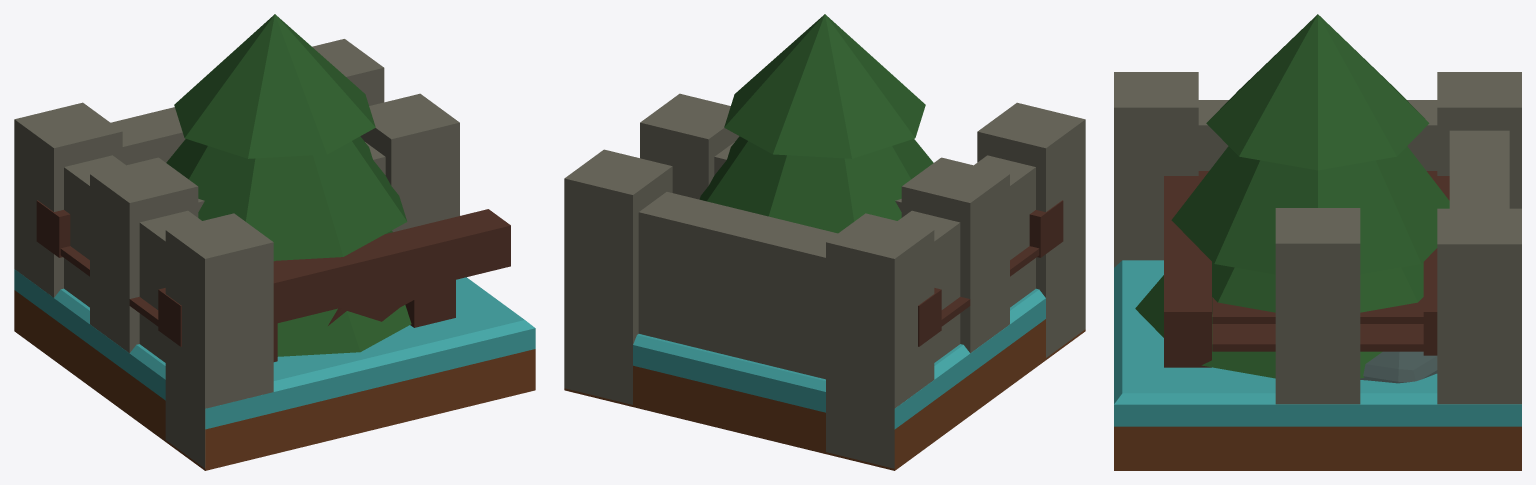
The model's file is Placeholder_Forest_Assets.fbx.
3 views of the same model, side by side, from view 1: azimuth 30°, elevation 25°; view 2: azimuth 150°, elevation 25°; view 3: azimuth 270°, elevation 25° (orthographic). The views are drawn at different scales.
Parts seen in each view (by area): view 1: SM_PH_Wall_Corner, SM_PH_Tree, SM_Tile_River_Base, SM_PH_Bridge_Middle, SM_PH_Wall, SM_PH_Wall_Half, SM_PH_Bridge_End; view 2: SM_PH_Wall_Corner, SM_PH_Tree, SM_Tile_River_Base, SM_PH_Wall_Half, SM_PH_Wall, SM_PH_Bridge_Middle; view 3: SM_PH_Tree, SM_PH_Wall_Corner, SM_Tile_River_Base, SM_PH_Wall_Half, SM_PH_Bridge_Middle, SM_PH_Wall, SM_PH_Rock.
Boxes of the visible parts, x1,y1,x2,y2 form: SM_PH_Wall_Corner: (14, 39, 384, 468); SM_PH_Tree: (166, 14, 411, 356); SM_Tile_River_Base: (14, 269, 535, 470); SM_PH_Bridge_Middle: (36, 200, 510, 361); SM_PH_Wall: (90, 123, 459, 353); SM_PH_Wall_Half: (90, 93, 459, 351); SM_PH_Bridge_End: (328, 290, 414, 325); SM_PH_Wall_Corner: (564, 102, 1085, 468); SM_PH_Tree: (699, 14, 933, 233); SM_Tile_River_Base: (564, 288, 1085, 470); SM_PH_Wall_Half: (640, 93, 1009, 352); SM_PH_Wall: (640, 123, 1009, 352); SM_PH_Bridge_Middle: (918, 200, 1063, 346); SM_PH_Tree: (1135, 14, 1449, 378); SM_PH_Wall_Corner: (1114, 72, 1521, 404); SM_Tile_River_Base: (1114, 260, 1521, 470); SM_PH_Wall_Half: (1275, 208, 1360, 404); SM_PH_Bridge_Middle: (1164, 171, 1449, 367); SM_PH_Wall: (1275, 244, 1360, 404); SM_PH_Rock: (1360, 351, 1437, 383).
Bounding box in the file's own units: 100 × 100 × 102.
